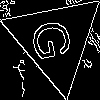G: (30, 15, 82, 63)
